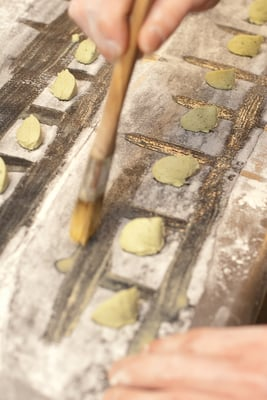sandwich: (67, 3, 147, 249), (124, 133, 218, 164)
